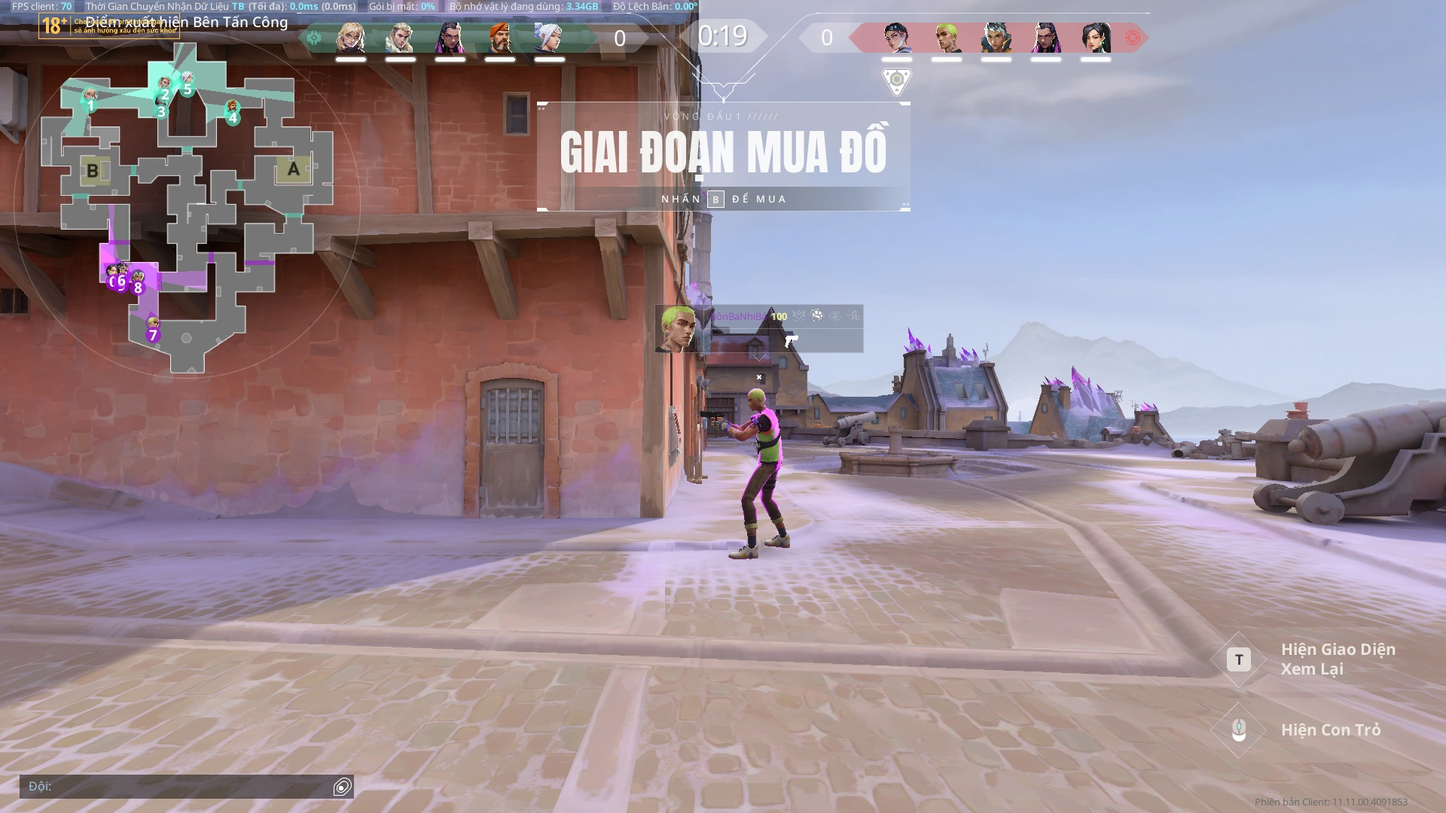body: (748, 409, 782, 462)
head: (748, 387, 767, 410)
